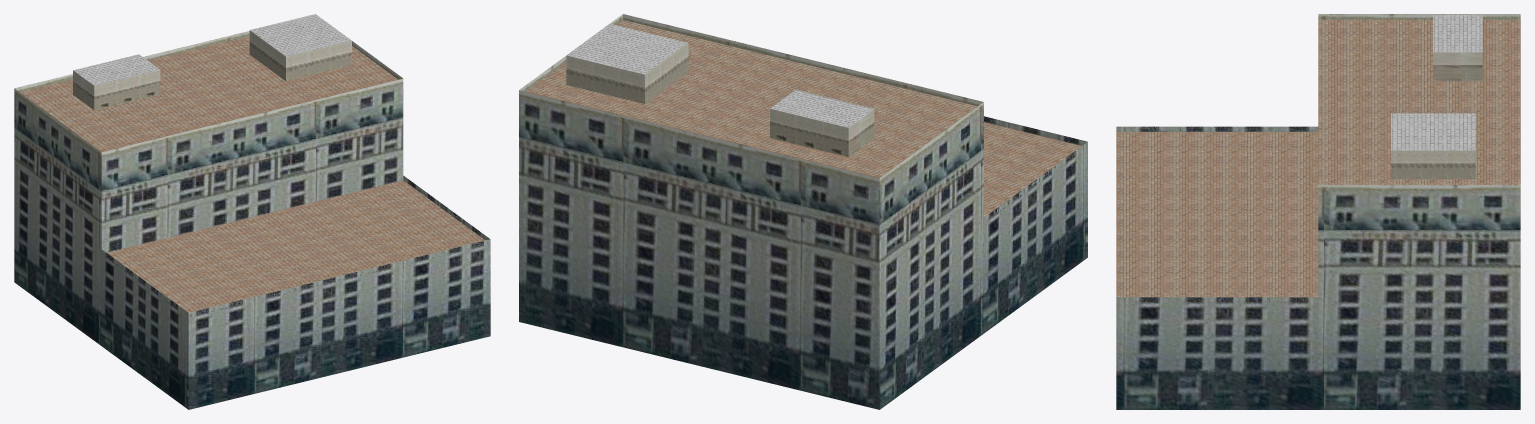
The picture shows the model from 3 angles, left to right: view 1: azimuth 30°, elevation 25°; view 2: azimuth 150°, elevation 25°; view 3: azimuth 270°, elevation 25°; orthographic projection. The views are drawn at different scales.
Parts seen in each view (by area): view 1: Object_3, Object_2, Object_1, Object_7, Object_6, Object_4, Object_5, Object_9, Object_8; view 2: Object_3, Object_1, Object_2, Object_7, Object_6, Object_4, Object_8, Object_5, Object_9; view 3: Object_3, Object_2, Object_1, Object_6, Object_7, Object_5, Object_8, Object_4, Object_9.
Part boxes in pixels (x1,y1,x2,y2): Object_3: [14, 31, 490, 409]; Object_2: [106, 180, 485, 312]; Object_1: [20, 36, 397, 151]; Object_7: [249, 30, 351, 81]; Object_6: [250, 14, 351, 56]; Object_4: [73, 70, 160, 110]; Object_5: [73, 54, 159, 85]; Object_9: [101, 175, 490, 316]; Object_8: [14, 31, 402, 156]; Object_3: [519, 14, 1087, 409]; Object_1: [525, 20, 977, 178]; Object_2: [984, 122, 1081, 217]; Object_7: [566, 43, 688, 103]; Object_6: [566, 23, 688, 74]; Object_4: [770, 108, 874, 157]; Object_8: [519, 14, 983, 182]; Object_5: [770, 90, 873, 127]; Object_9: [984, 117, 1087, 222]; Object_3: [1116, 14, 1520, 409]; Object_2: [1116, 132, 1318, 297]; Object_1: [1318, 19, 1520, 184]; Object_6: [1391, 113, 1475, 150]; Object_7: [1391, 150, 1475, 179]; Object_5: [1433, 15, 1482, 52]; Object_8: [1318, 14, 1520, 190]; Object_4: [1433, 52, 1482, 80]; Object_9: [1116, 126, 1318, 302].
Size of the model in its own units: 1283 by 1283 by 868.
Materials: 9 (9 with a texture image).
